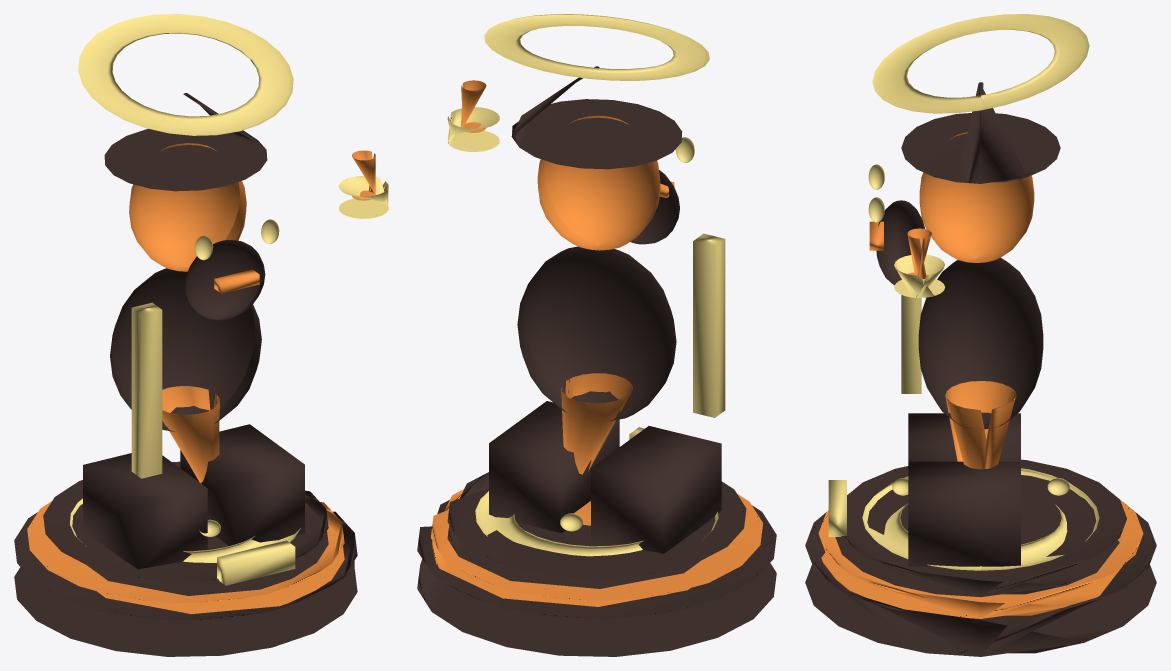
Rendered from anointed.glb.
3 views of the same model, side by side, from view 1: azimuth 30°, elevation 25°; view 2: azimuth 150°, elevation 25°; view 3: azimuth 270°, elevation 25° (orthographic). The views are drawn at different scales.
Visible parts, largest first — view 1: anointed_#3B2B27, anointed_#FDE68A, anointed_#FB923C; view 2: anointed_#3B2B27, anointed_#FB923C, anointed_#FDE68A; view 3: anointed_#3B2B27, anointed_#FB923C, anointed_#FDE68A.
Boxes of the visible parts, x1,y1,x2,y2 form: anointed_#3B2B27: (14, 93, 357, 656); anointed_#FDE68A: (70, 14, 388, 585); anointed_#FB923C: (27, 143, 375, 614); anointed_#3B2B27: (417, 66, 776, 656); anointed_#FB923C: (430, 80, 763, 606); anointed_#FDE68A: (447, 14, 725, 556); anointed_#3B2B27: (805, 82, 1156, 656); anointed_#FB923C: (818, 132, 1143, 618); anointed_#FDE68A: (828, 14, 1099, 570).
Bounding box in the file's own units: 1.84 × 2.9 × 1.72.
